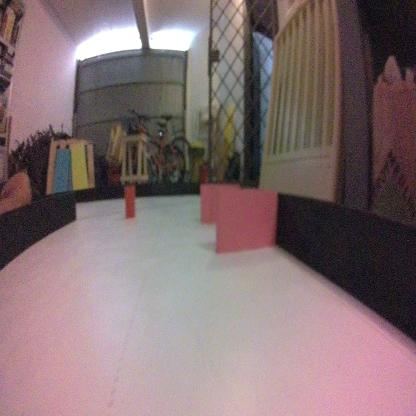magenta: (216, 188, 275, 258), (198, 181, 242, 227)
red: (123, 184, 136, 220)
